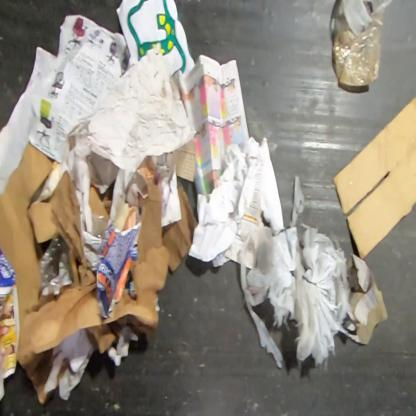cardboard: (0, 141, 170, 409), (331, 96, 415, 261), (89, 186, 113, 221)
rigid_plastic: (331, 11, 385, 90)
soft_plastic: (238, 172, 360, 369), (38, 235, 74, 283), (92, 212, 108, 239)
